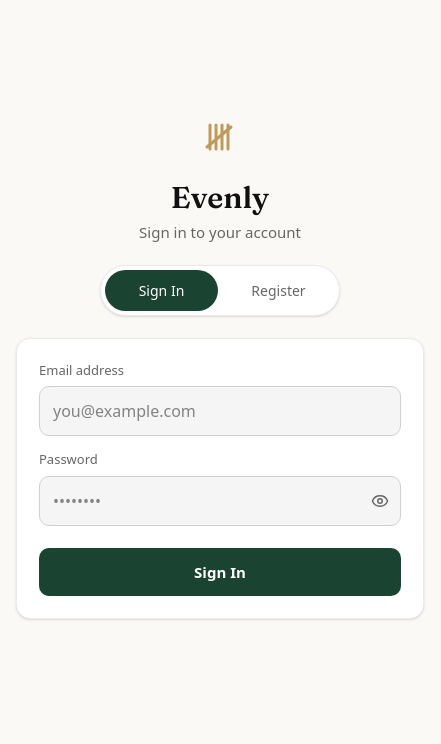
Test case: AuthPage › shows password mismatch error during registration
Step 1. Click the button "Register" → (278, 290), box [222, 270, 335, 311]
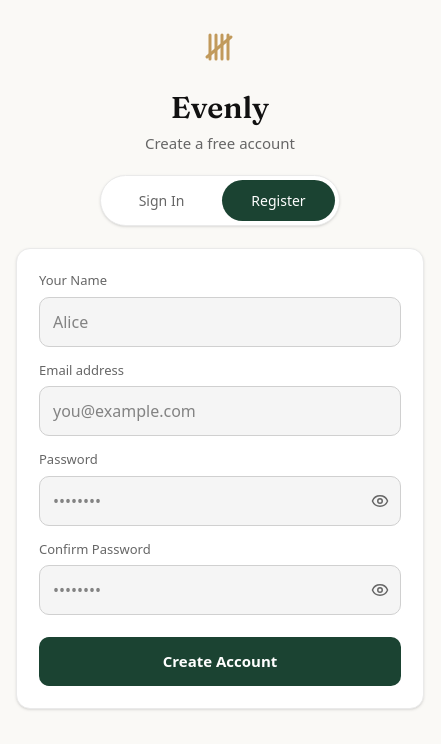
// Fill out form
Step 2. Type "Test User" into the field labelled "Your Name" → (220, 322), box [39, 297, 401, 347]
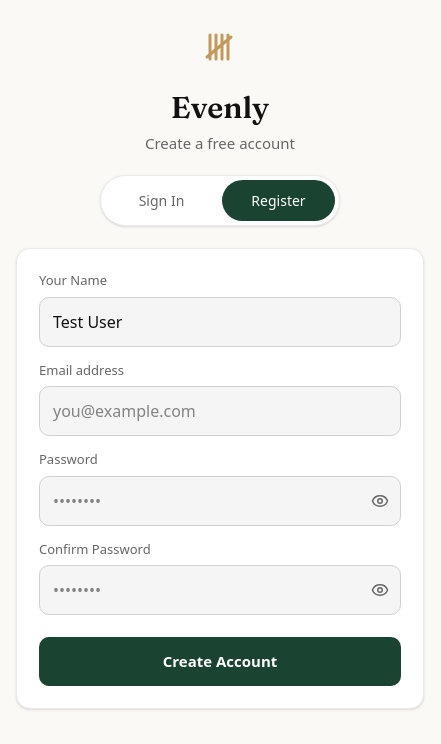
Step 3. Type "test@test.com" into the field labelled "Email address" → (220, 411), box [39, 386, 401, 436]
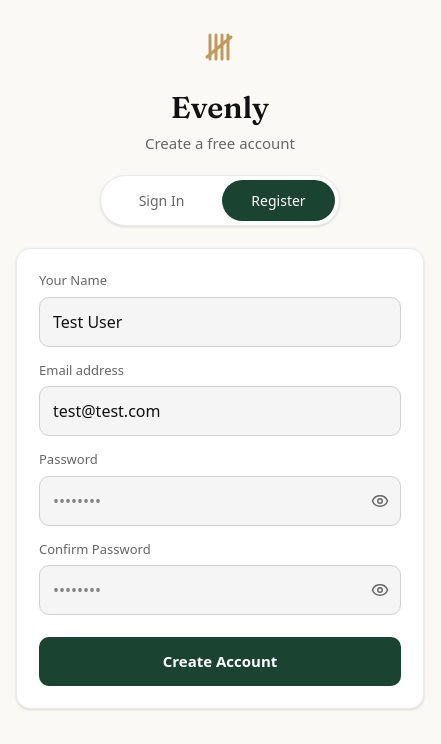
// The password fields are selected by label
Step 4. Type "password123" into the password field with placeholder "••••••••" → (220, 501), box [39, 476, 401, 526]
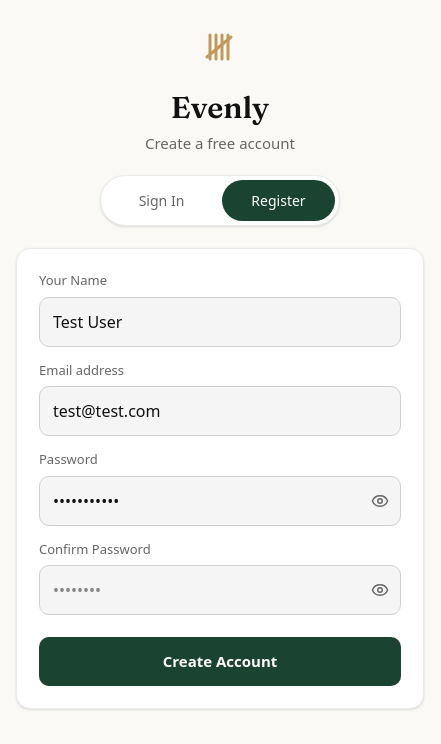
Step 5. Type "password456" into the password field with placeholder "••••••••" → (220, 590), box [39, 565, 401, 615]
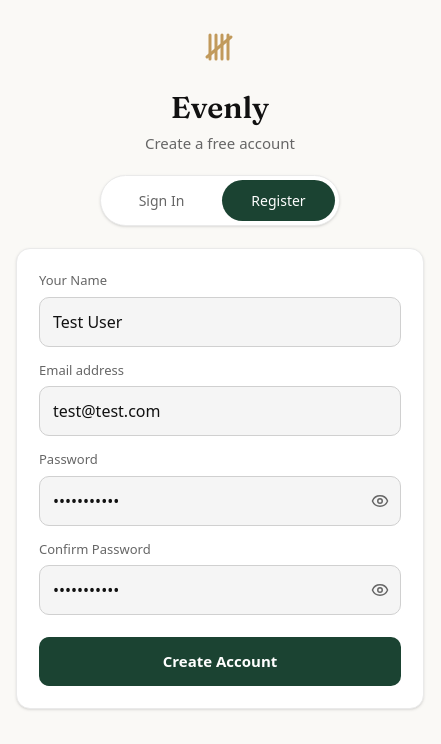
Step 6. Click the button "Create Account" → (220, 662), box [39, 637, 401, 686]
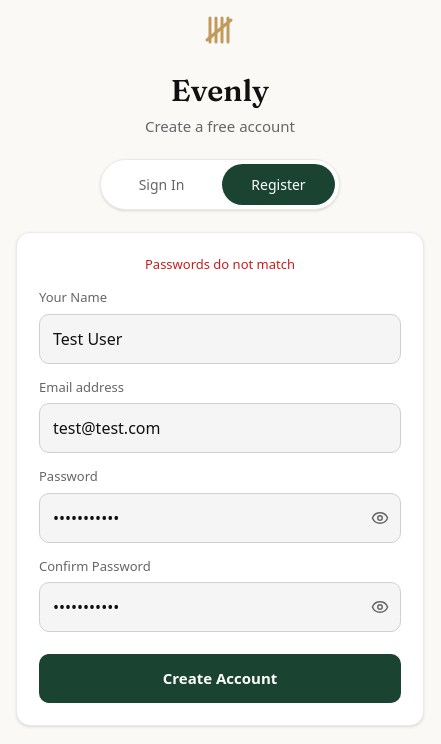
Expected: the text "Passwords do not match" is shown, [145, 255, 295, 273]
